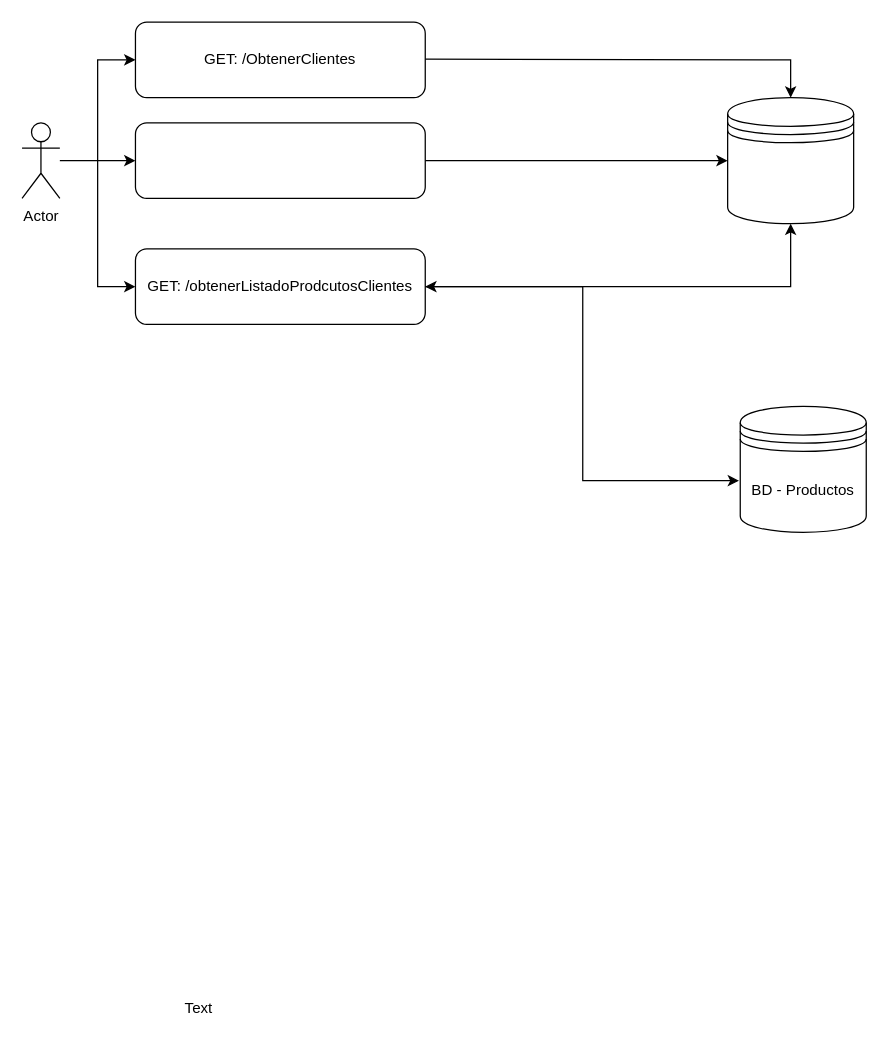
Some shapes in this 888 by 1050 pixel diagram are drawn without their labels. The shapes that lost their labels are listed below. From the top down, each one's centre as x and y in pixels, then its label:
[279,160]: POST: /agregarDetallesClientes
[790,160]: BD - Clientes
